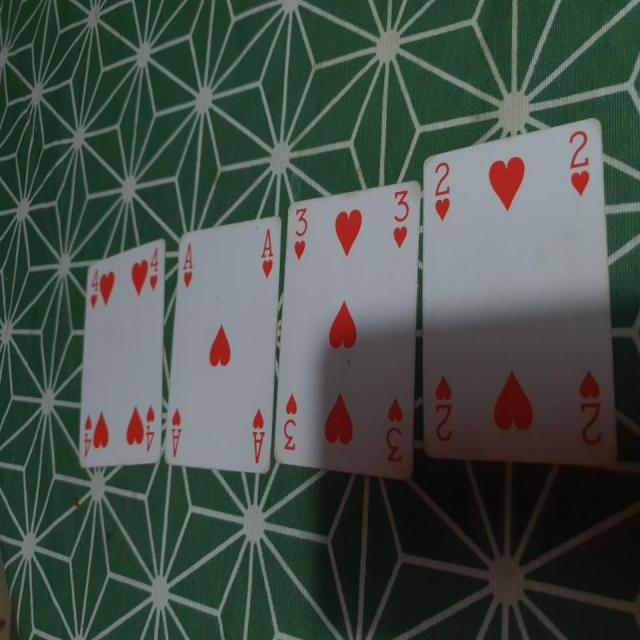2 Hearts: (416, 116, 624, 482)
3 Hearts: (282, 175, 423, 493)
4 Hearts: (77, 237, 166, 471)
A Hearts: (165, 220, 281, 474)
